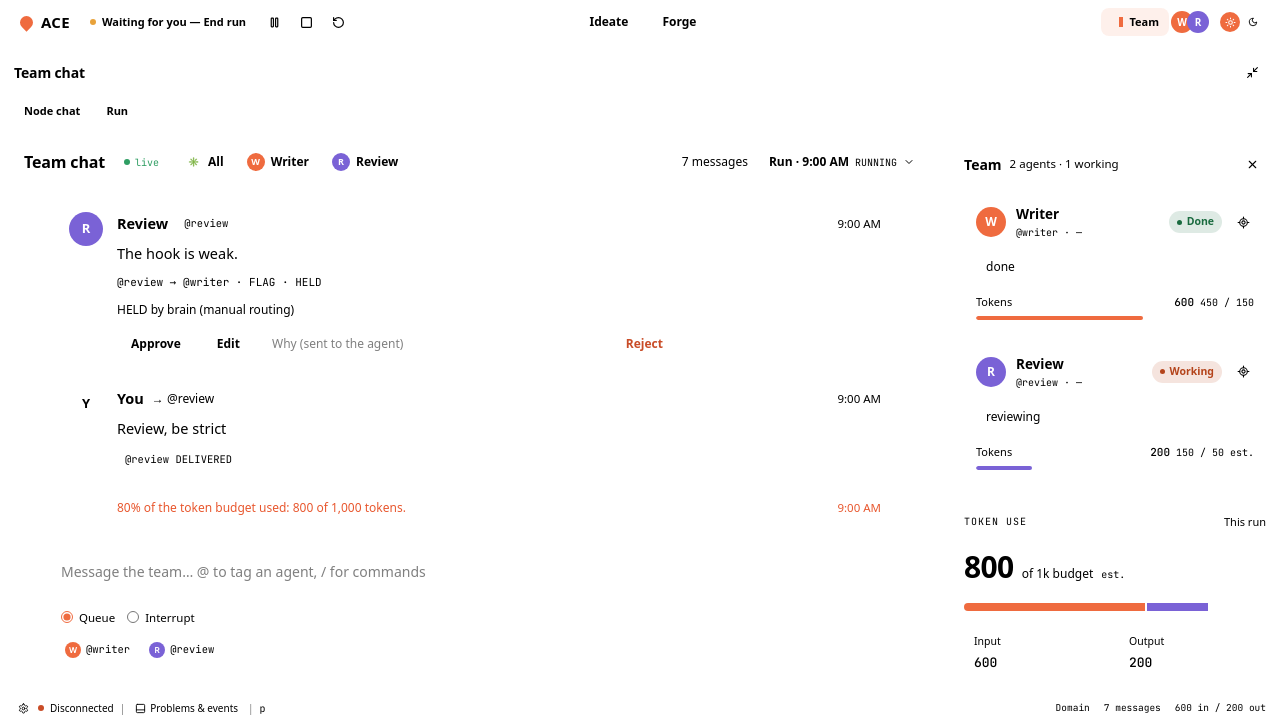
Domain page › a filter pill shows one node's view, through ?node=
(page scrolled)
Click the button "R Review" at [368, 162], box [326,148,409,176]
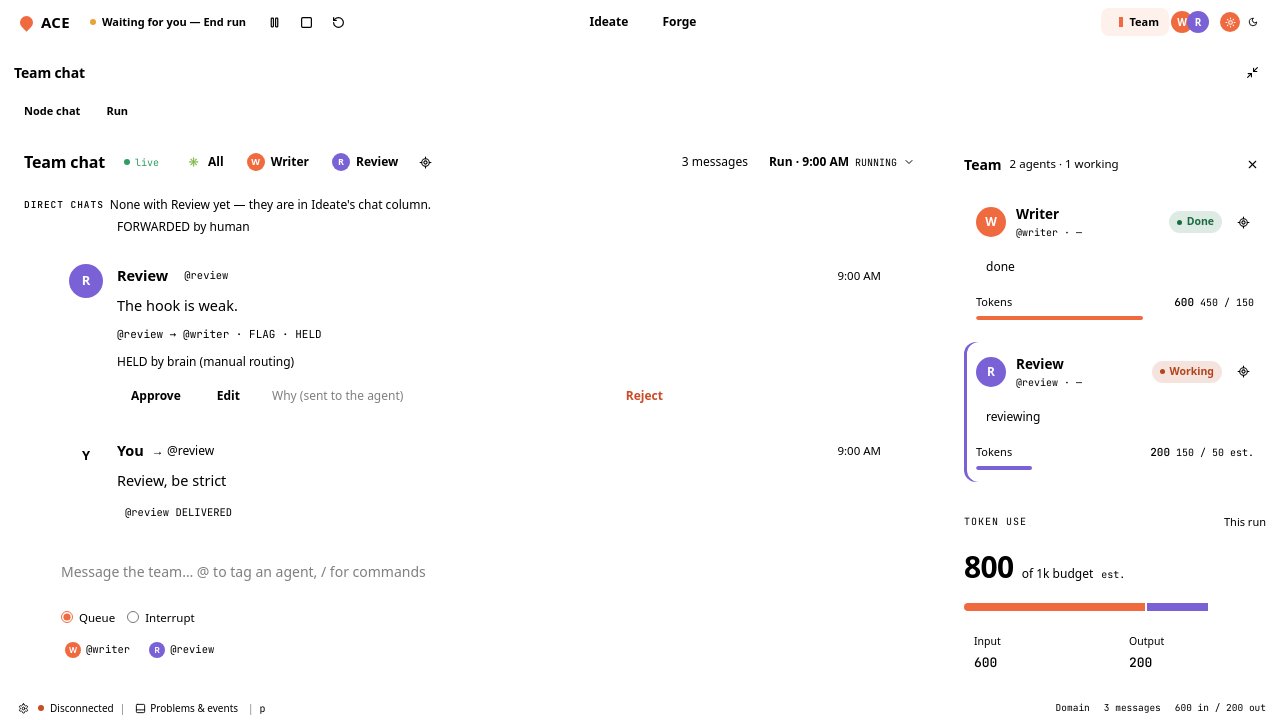
expect the text "Draft: Go further." is not shown: met
expect the text "The hook is weak." is shown: met, box [117,295,238,315]
Click the button "✳ All" at [206, 162], box [178,148,235,176]
(page scrolled)
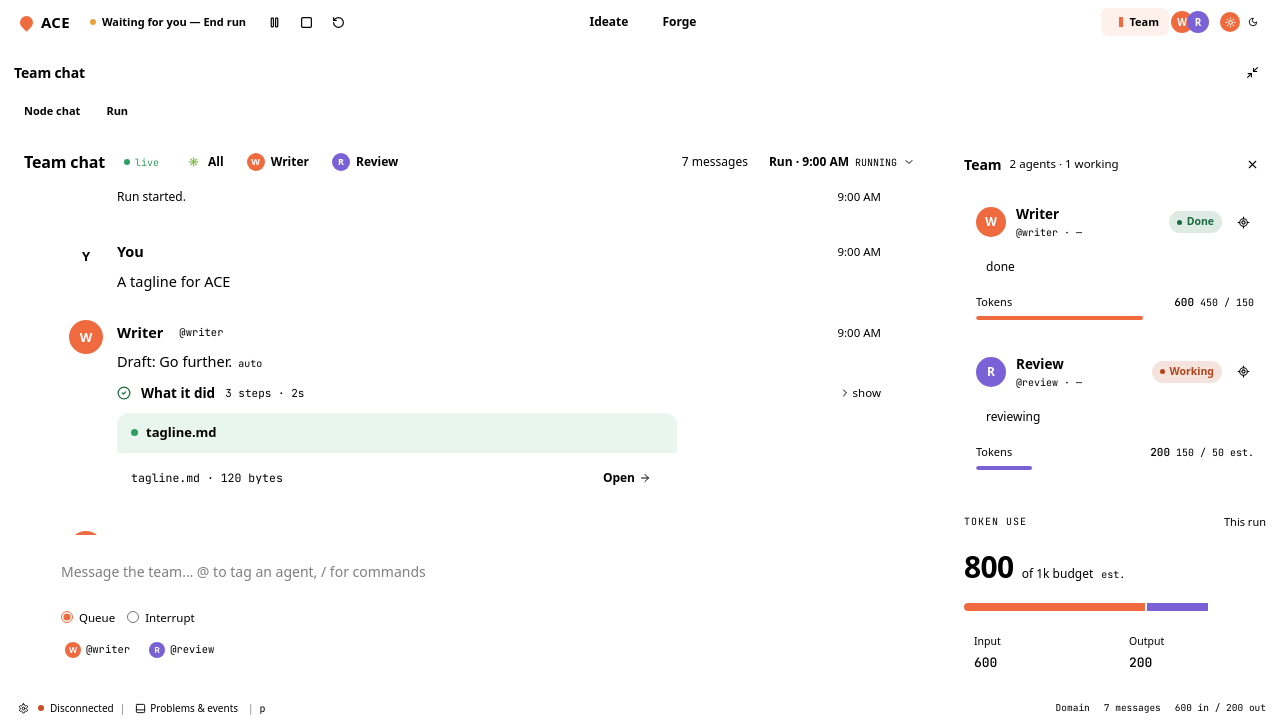
expect the text "Draft: Go further." is shown: met, box [117,352,232,372]
